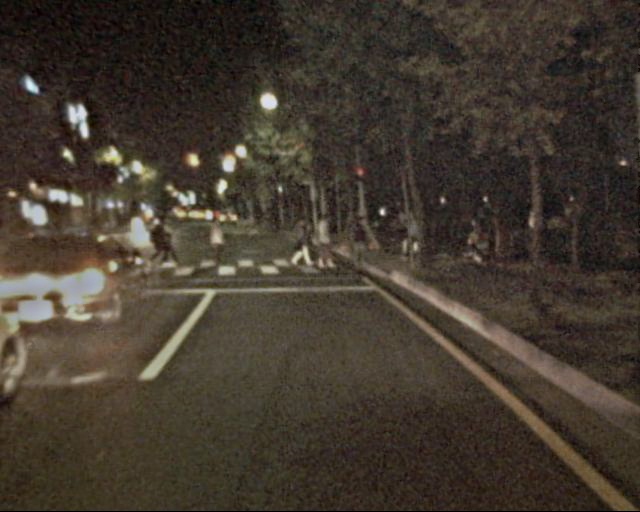person: (147, 207, 178, 276), (202, 209, 228, 272), (308, 212, 333, 274), (290, 213, 316, 272), (401, 210, 426, 268), (352, 213, 373, 272)
